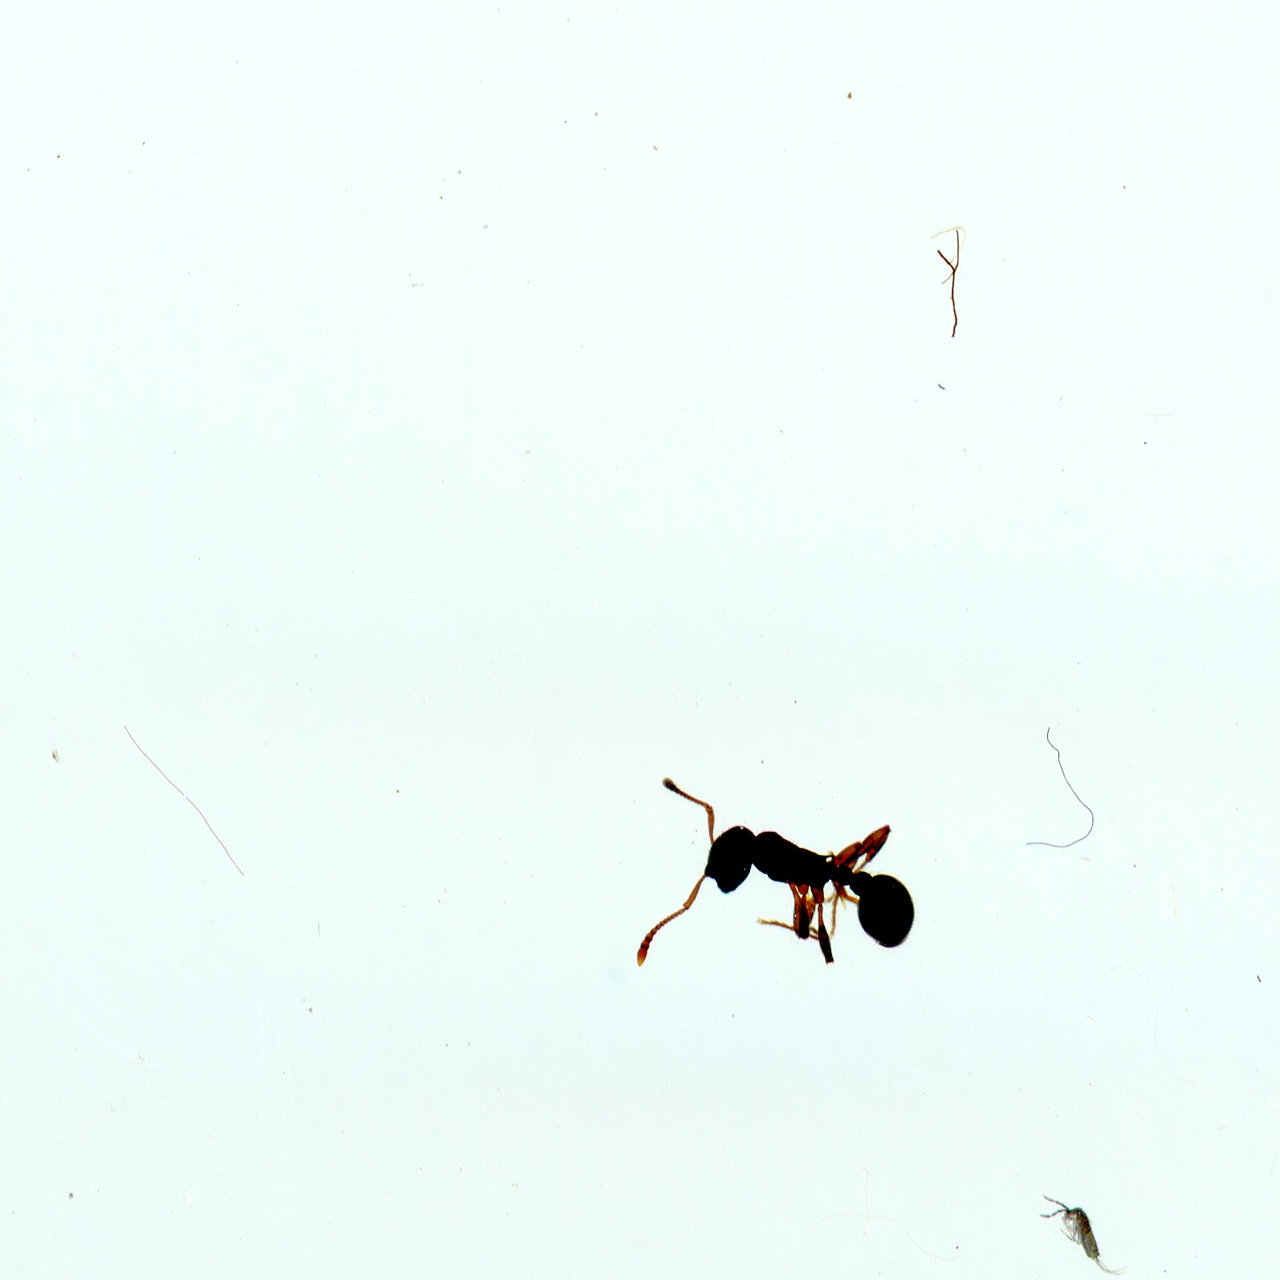arthropod: (620, 764, 941, 1020), (1036, 1187, 1136, 1280)
